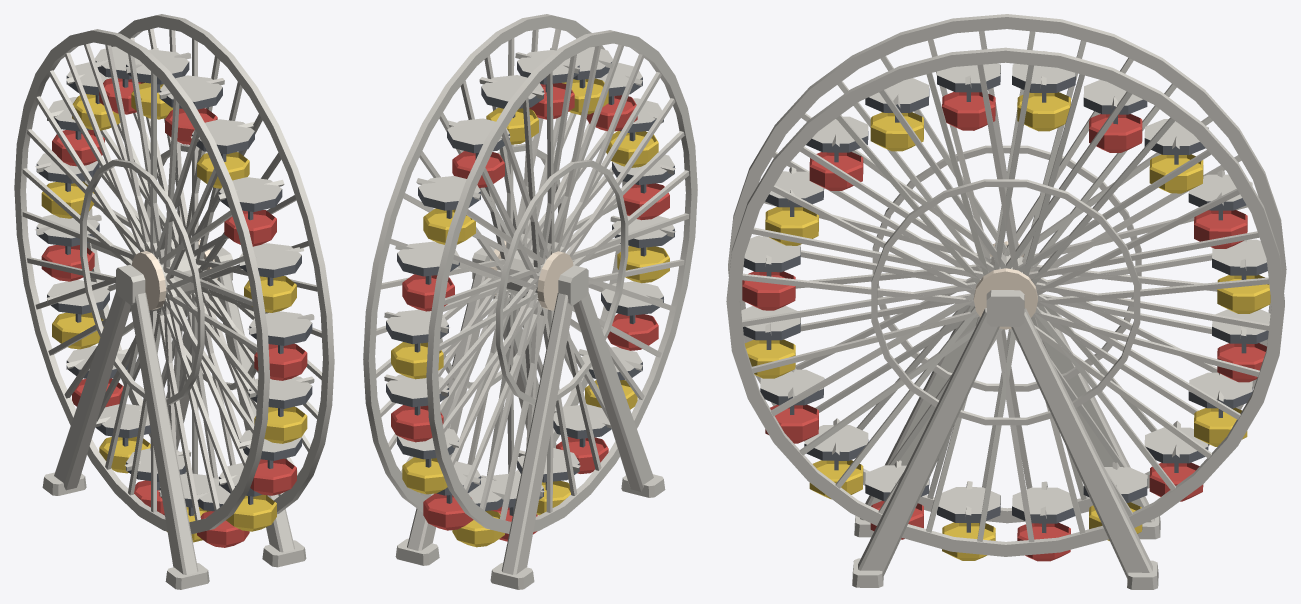
File: detail.glb
3 renders of one model, left to right at view 1: azimuth 30°, elevation 25°; view 2: azimuth 150°, elevation 25°; view 3: azimuth 270°, elevation 25°, orthographic. The views are drawn at different scales.
Parts seen in each view (by area): view 1: pacific-wheel; view 2: pacific-wheel; view 3: pacific-wheel.
Part boxes in pixels (x1,y1,x2,y2): pacific-wheel: (14,14,334,589); pacific-wheel: (363,14,697,589); pacific-wheel: (726,14,1286,589).
Size of the model in its own units: 7.53 by 26 by 25.26.
